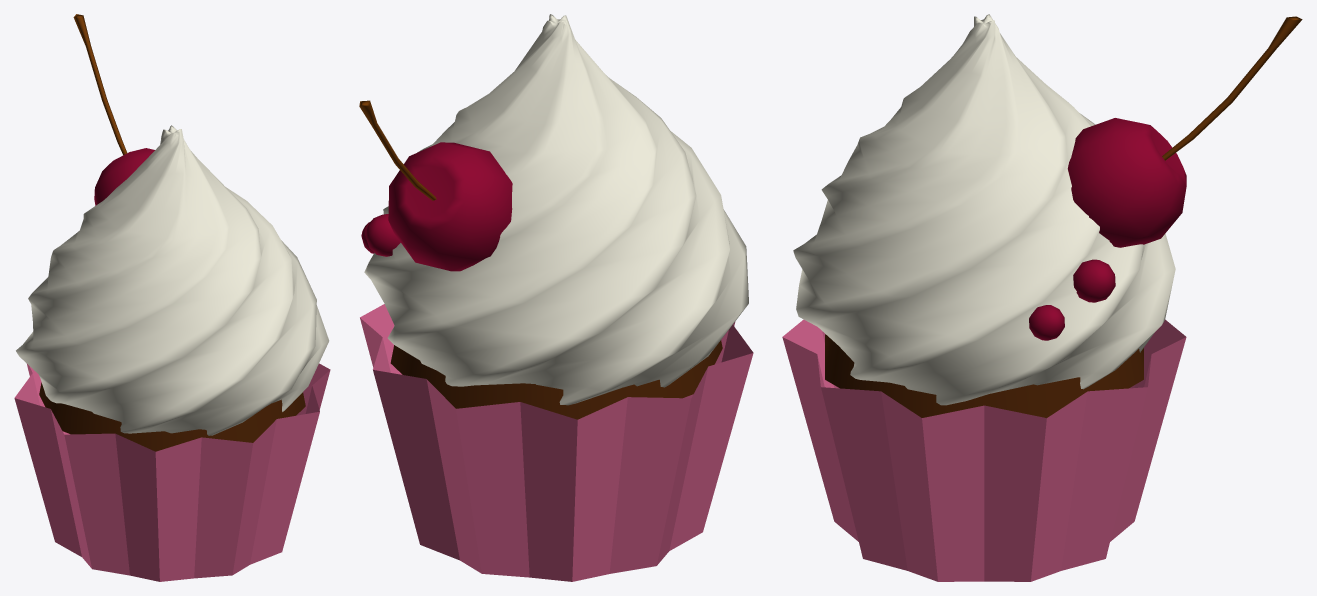
The model's file is Cupcake_MT_range.fbx.
3 views of the same model, side by side, from view 1: azimuth 30°, elevation 25°; view 2: azimuth 150°, elevation 25°; view 3: azimuth 270°, elevation 25° (orthographic). The views are drawn at different scales.
Parts seen in each view (by area): view 1: Frosting_01, Cupcake_Case_01, Pink_Cake_02, Cherry_04, CherryStem_01; view 2: Frosting_01, Cupcake_Case_01, Cherry_04, Pink_Cake_02, Cherry_02, CherryStem_01; view 3: Frosting_01, Cupcake_Case_01, Cherry_04, Pink_Cake_02, CherryStem_01, Cherry_02, Cherry_03.
Part boxes in pixels (x1,y1,x2,y2): Frosting_01: (16, 125, 329, 435); Cupcake_Case_01: (14, 363, 330, 581); Pink_Cake_02: (39, 382, 305, 451); Cherry_04: (94, 148, 154, 205); CherryStem_01: (73, 14, 127, 154); Frosting_01: (364, 14, 748, 405); Cupcake_Case_01: (360, 304, 753, 581); Cherry_04: (388, 142, 512, 271); Pink_Cake_02: (390, 340, 722, 419); Cherry_02: (365, 214, 400, 256); CherryStem_01: (359, 100, 436, 200); Frosting_01: (793, 14, 1175, 405); Cupcake_Case_01: (782, 319, 1186, 581); Cherry_04: (1067, 118, 1186, 247); Pink_Cake_02: (825, 334, 1143, 417); CherryStem_01: (1162, 16, 1302, 160); Cherry_02: (1073, 259, 1115, 302); Cherry_03: (1029, 305, 1064, 340).
Bounding box in the file's own units: 149 × 226 × 202.
